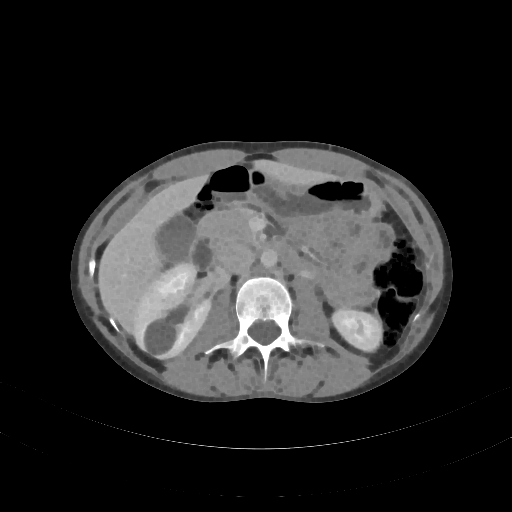Lesion: (138, 311, 180, 358)
